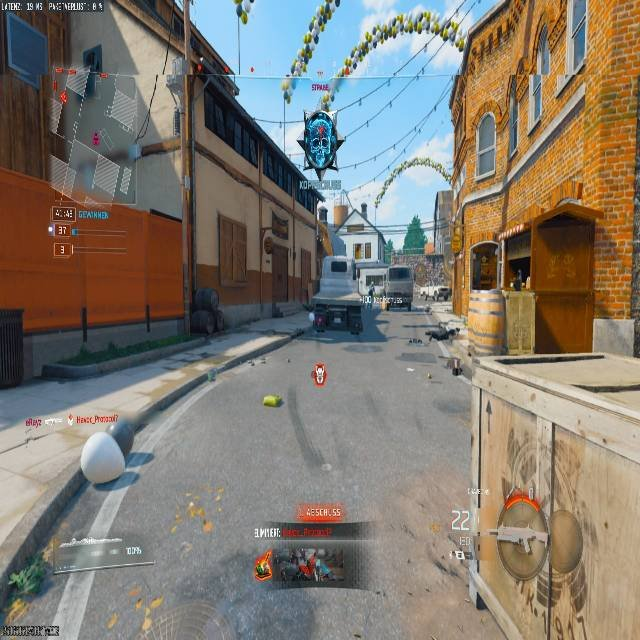player: (188, 285, 228, 340), (366, 277, 385, 309)
